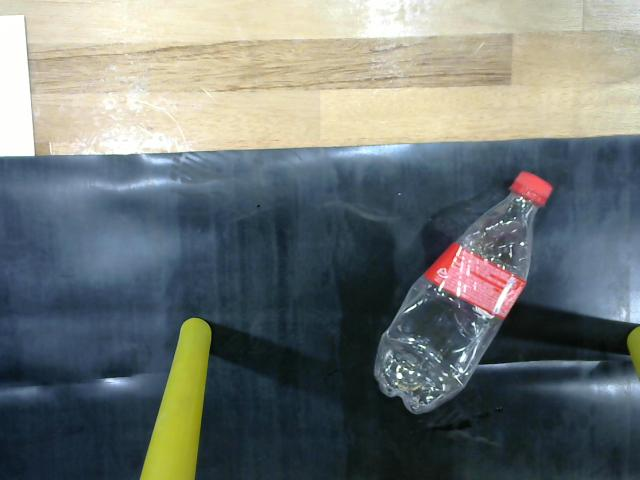bottle: (370, 166, 556, 419)
